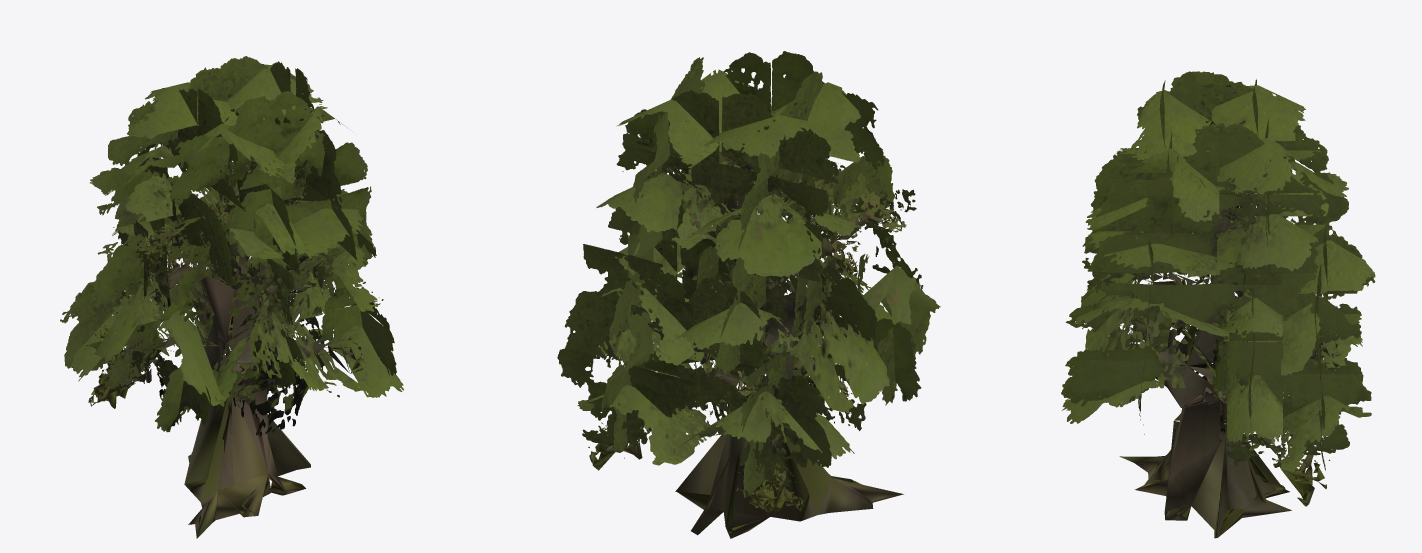
The model's file is tree-1537-far.glb.
The picture shows the model from 3 angles, left to right: view 1: azimuth 30°, elevation 25°; view 2: azimuth 150°, elevation 25°; view 3: azimuth 270°, elevation 25°; orthographic projection. The views are drawn at different scales.
Parts seen in each view (by area): view 1: Foliage, Wood; view 2: Foliage, Wood; view 3: Foliage, Wood.
Part boxes in pixels (x1,y1,x2,y2): Foliage: [60, 56, 403, 436]; Wood: [88, 106, 368, 538]; Foliage: [557, 51, 940, 494]; Wood: [589, 107, 903, 538]; Foliage: [1061, 71, 1375, 470]; Wood: [1119, 113, 1340, 538].
Bounding box in the file's own units: 10.41 × 12.82 × 9.94.
Materials: 2 (2 with a texture image).
